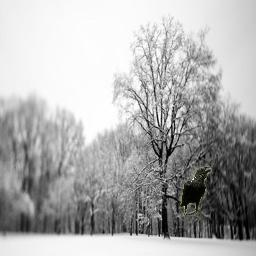Crow: (179, 165, 212, 220)
